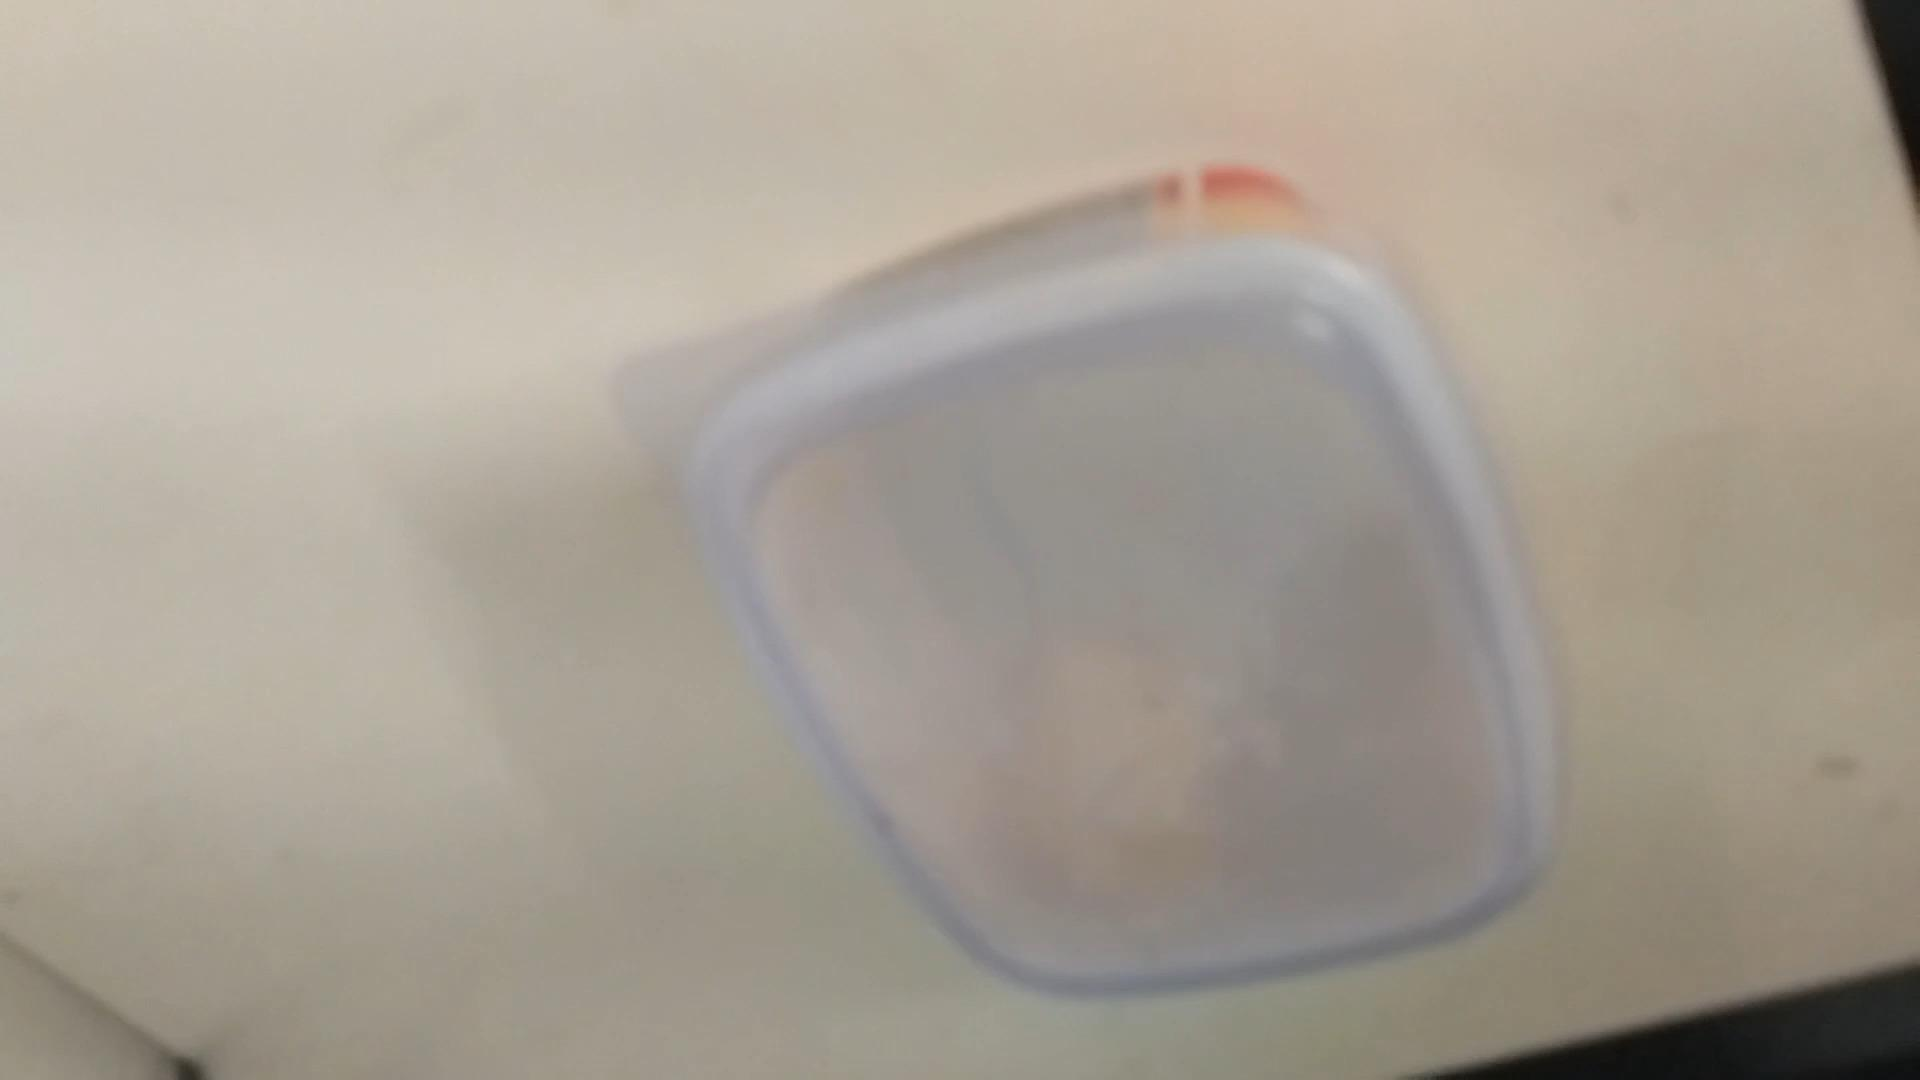butter: (646, 181, 1563, 1001)
